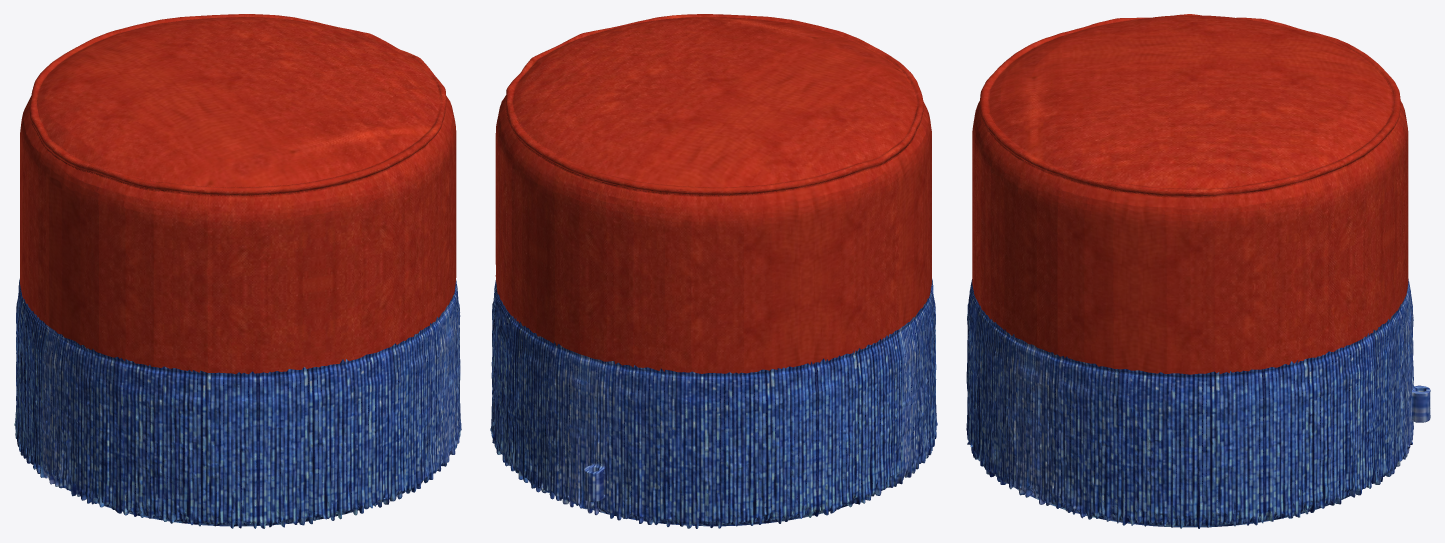
Rendered from Crimson_Blue_Fringe_Ottoman_textured.glb.
3 views of the same model, side by side, from view 1: azimuth 30°, elevation 25°; view 2: azimuth 150°, elevation 25°; view 3: azimuth 270°, elevation 25° (orthographic).
Size of the model in its own units: 0.0563 by 0.05 by 0.0581.
1 material, 1 textured.
